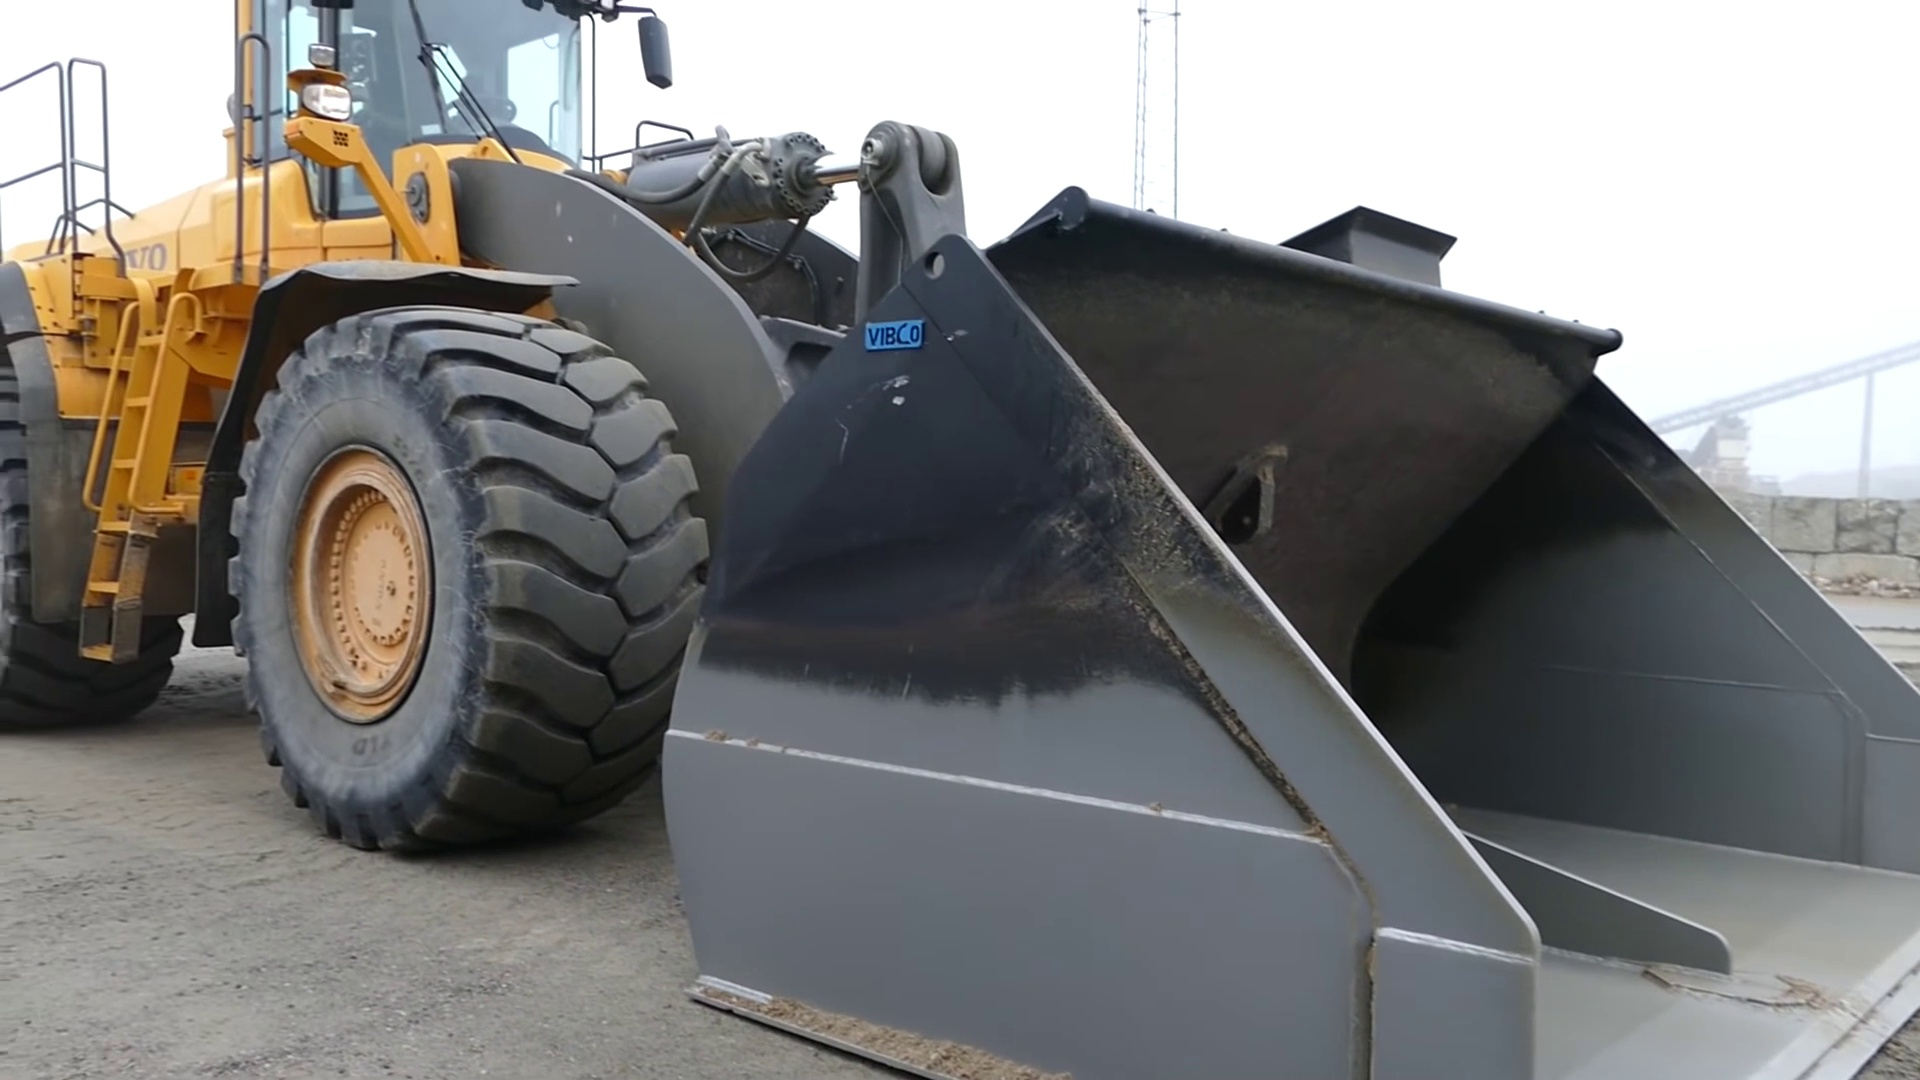wheel loader: (5, 4, 1916, 1073)
